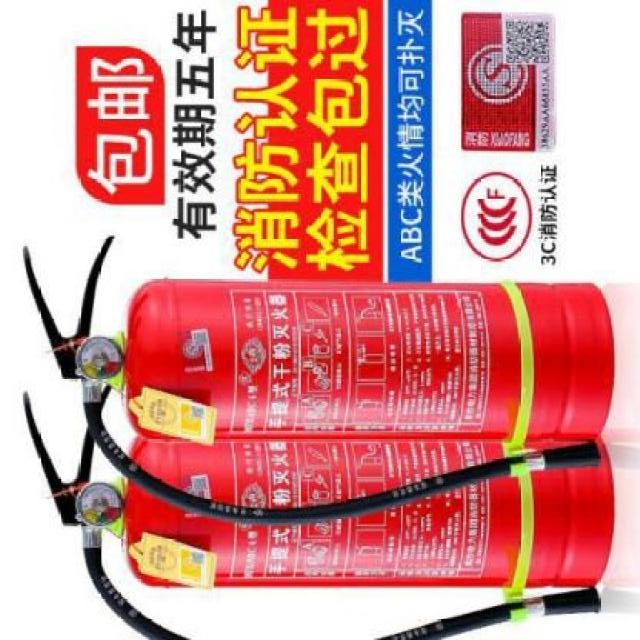fire extinguisher: (21, 235, 616, 528), (22, 383, 615, 640)
